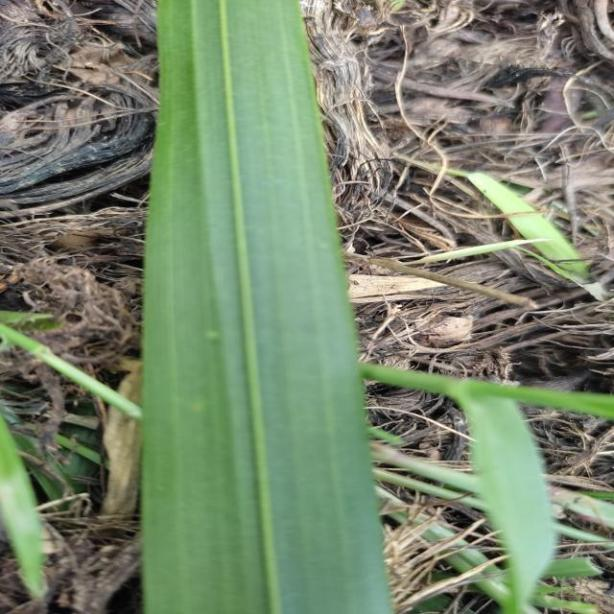Healthy: (136, 0, 388, 614)
